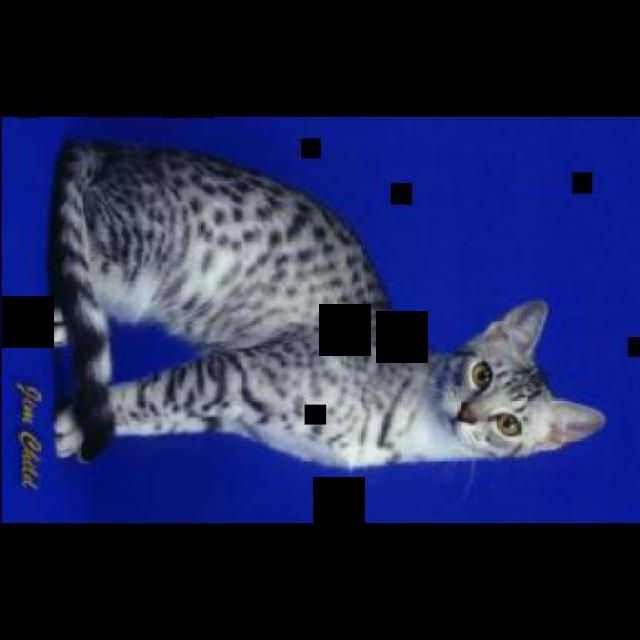unauthorized: (43, 135, 606, 471)
